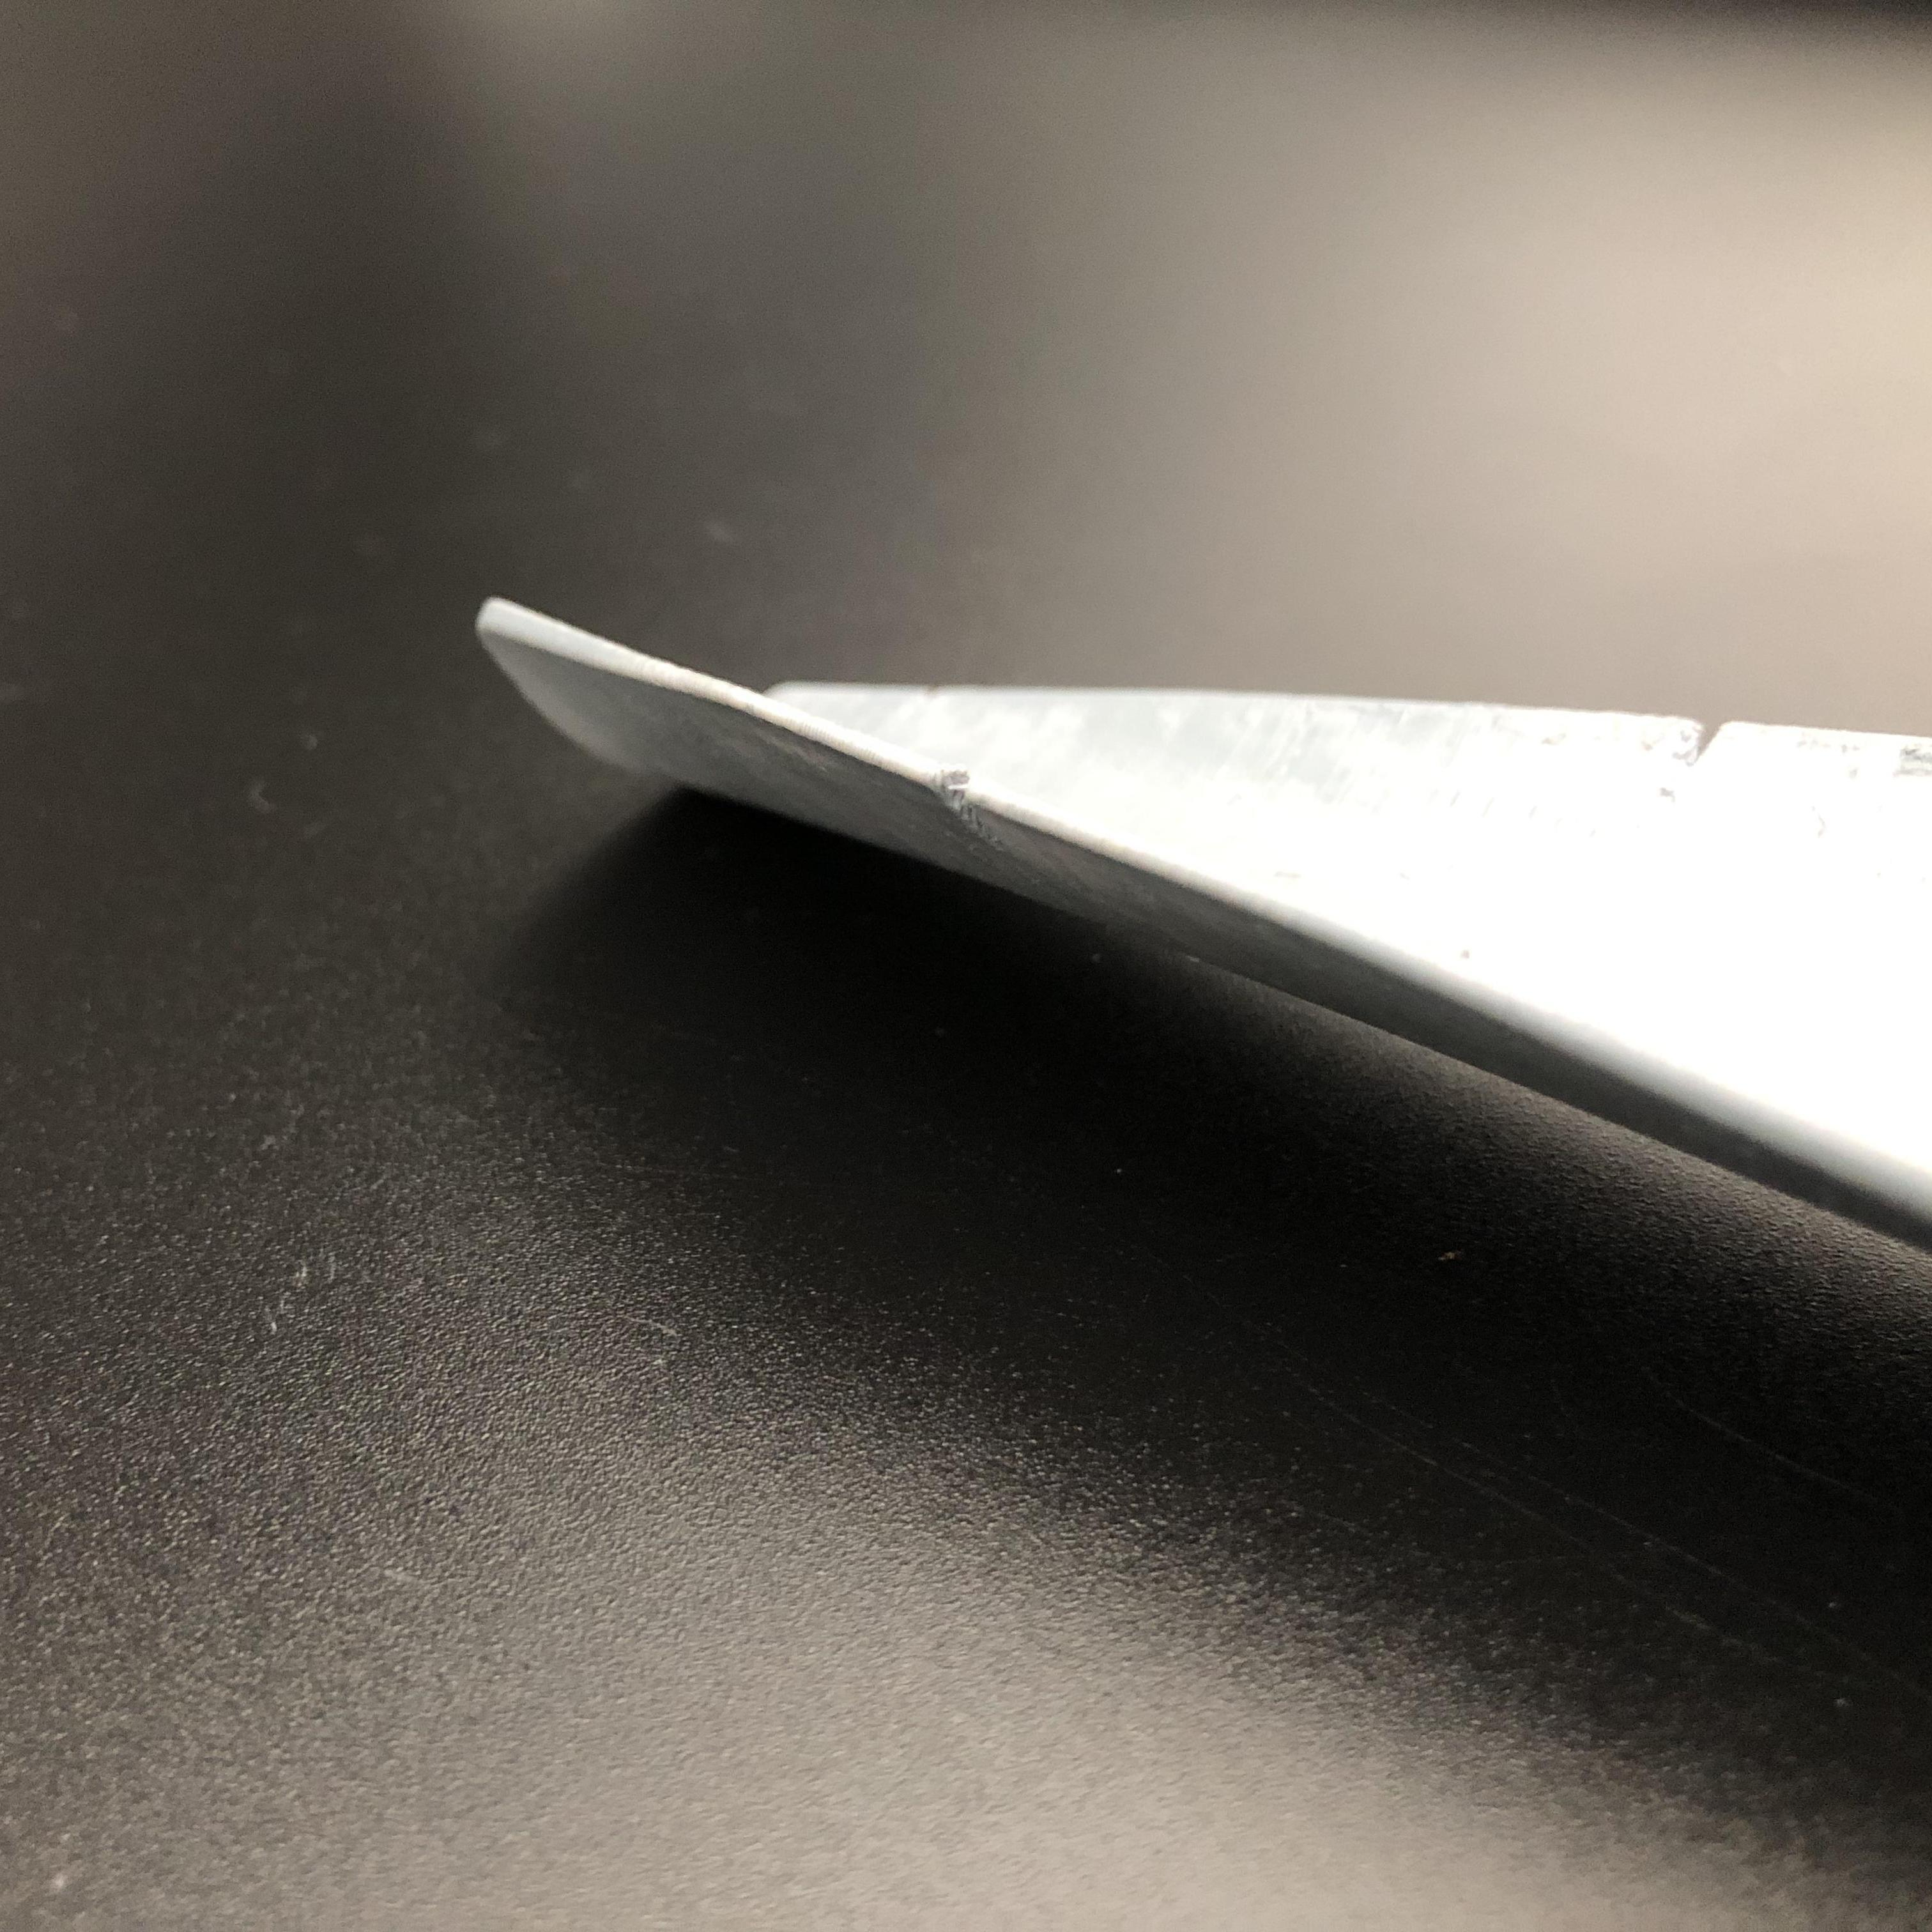groove: (918, 764, 1019, 858), (1672, 713, 1755, 777)
